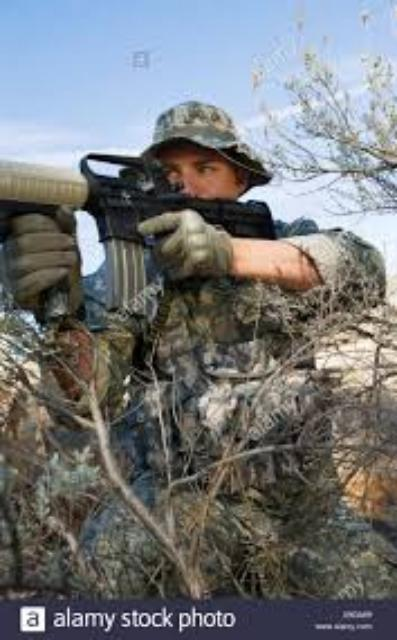other: (22, 105, 345, 525)
